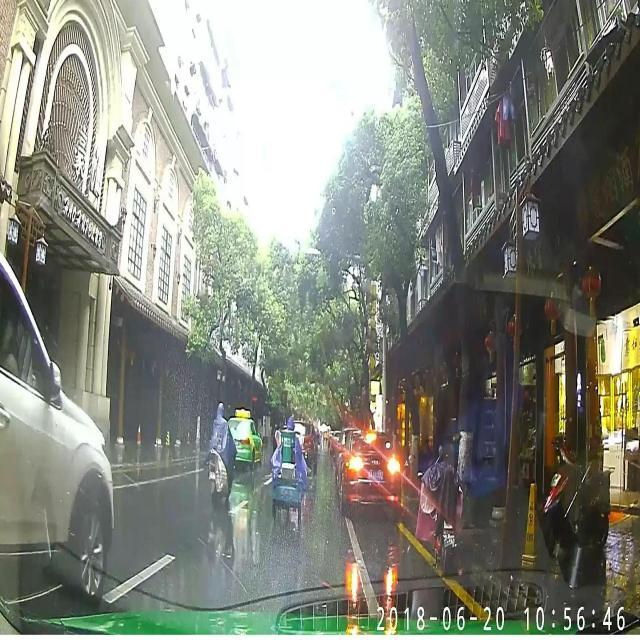car: (0, 257, 113, 603), (337, 429, 403, 519), (226, 408, 264, 472), (286, 420, 318, 470)
